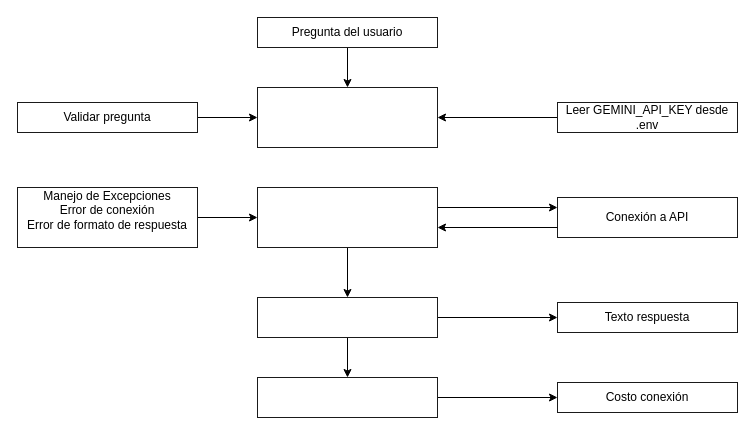
This 755x435 diagram has some shape labels left out. Each missing label, with the box of its shape:
Calcular costo petición: (256, 376, 438, 418)
Construir petición Armar URL, cuerpo y encabezado: (256, 86, 438, 148)
Enviar petición y Obtener respuesta: (256, 186, 438, 248)
Obtener texto respuesta: (256, 296, 438, 338)
